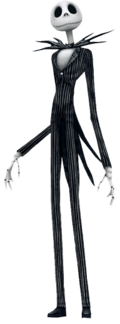Jack Skellington: (4, 2, 116, 319)
